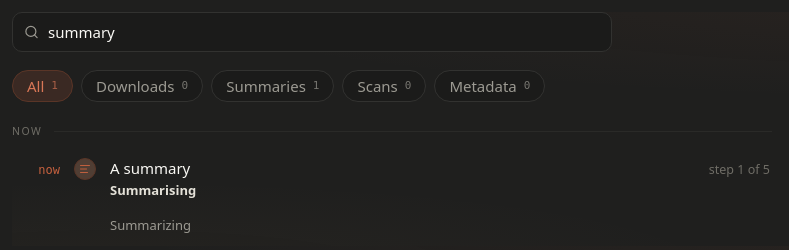
Test case: UpNext filters › composes with the kind chips, and names both when both are on
This screenshot has width=789, height=250.
Expected: the text "A summary" is shown, [110, 158, 190, 178]
Click the button "Downloads 0" at (142, 86), box [81, 70, 203, 102]
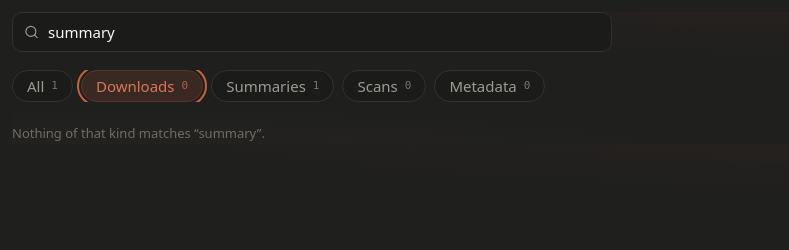
Result: the text "A summary" is gone
Result: the text "Nothing of that kind matches “summary”." is shown at [12, 124, 265, 142]
// The chips survive it, so there is a way back.
Click the button "All 1" at (42, 86), box [12, 70, 73, 102]
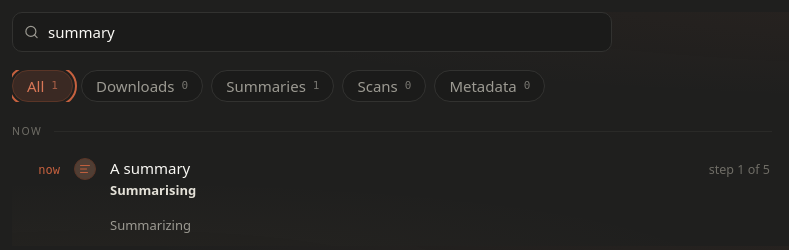
Result: the text "A summary" is shown at [110, 158, 190, 178]
